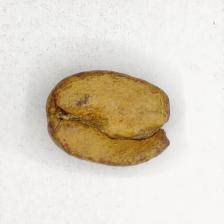NG: (54, 77, 164, 156)
